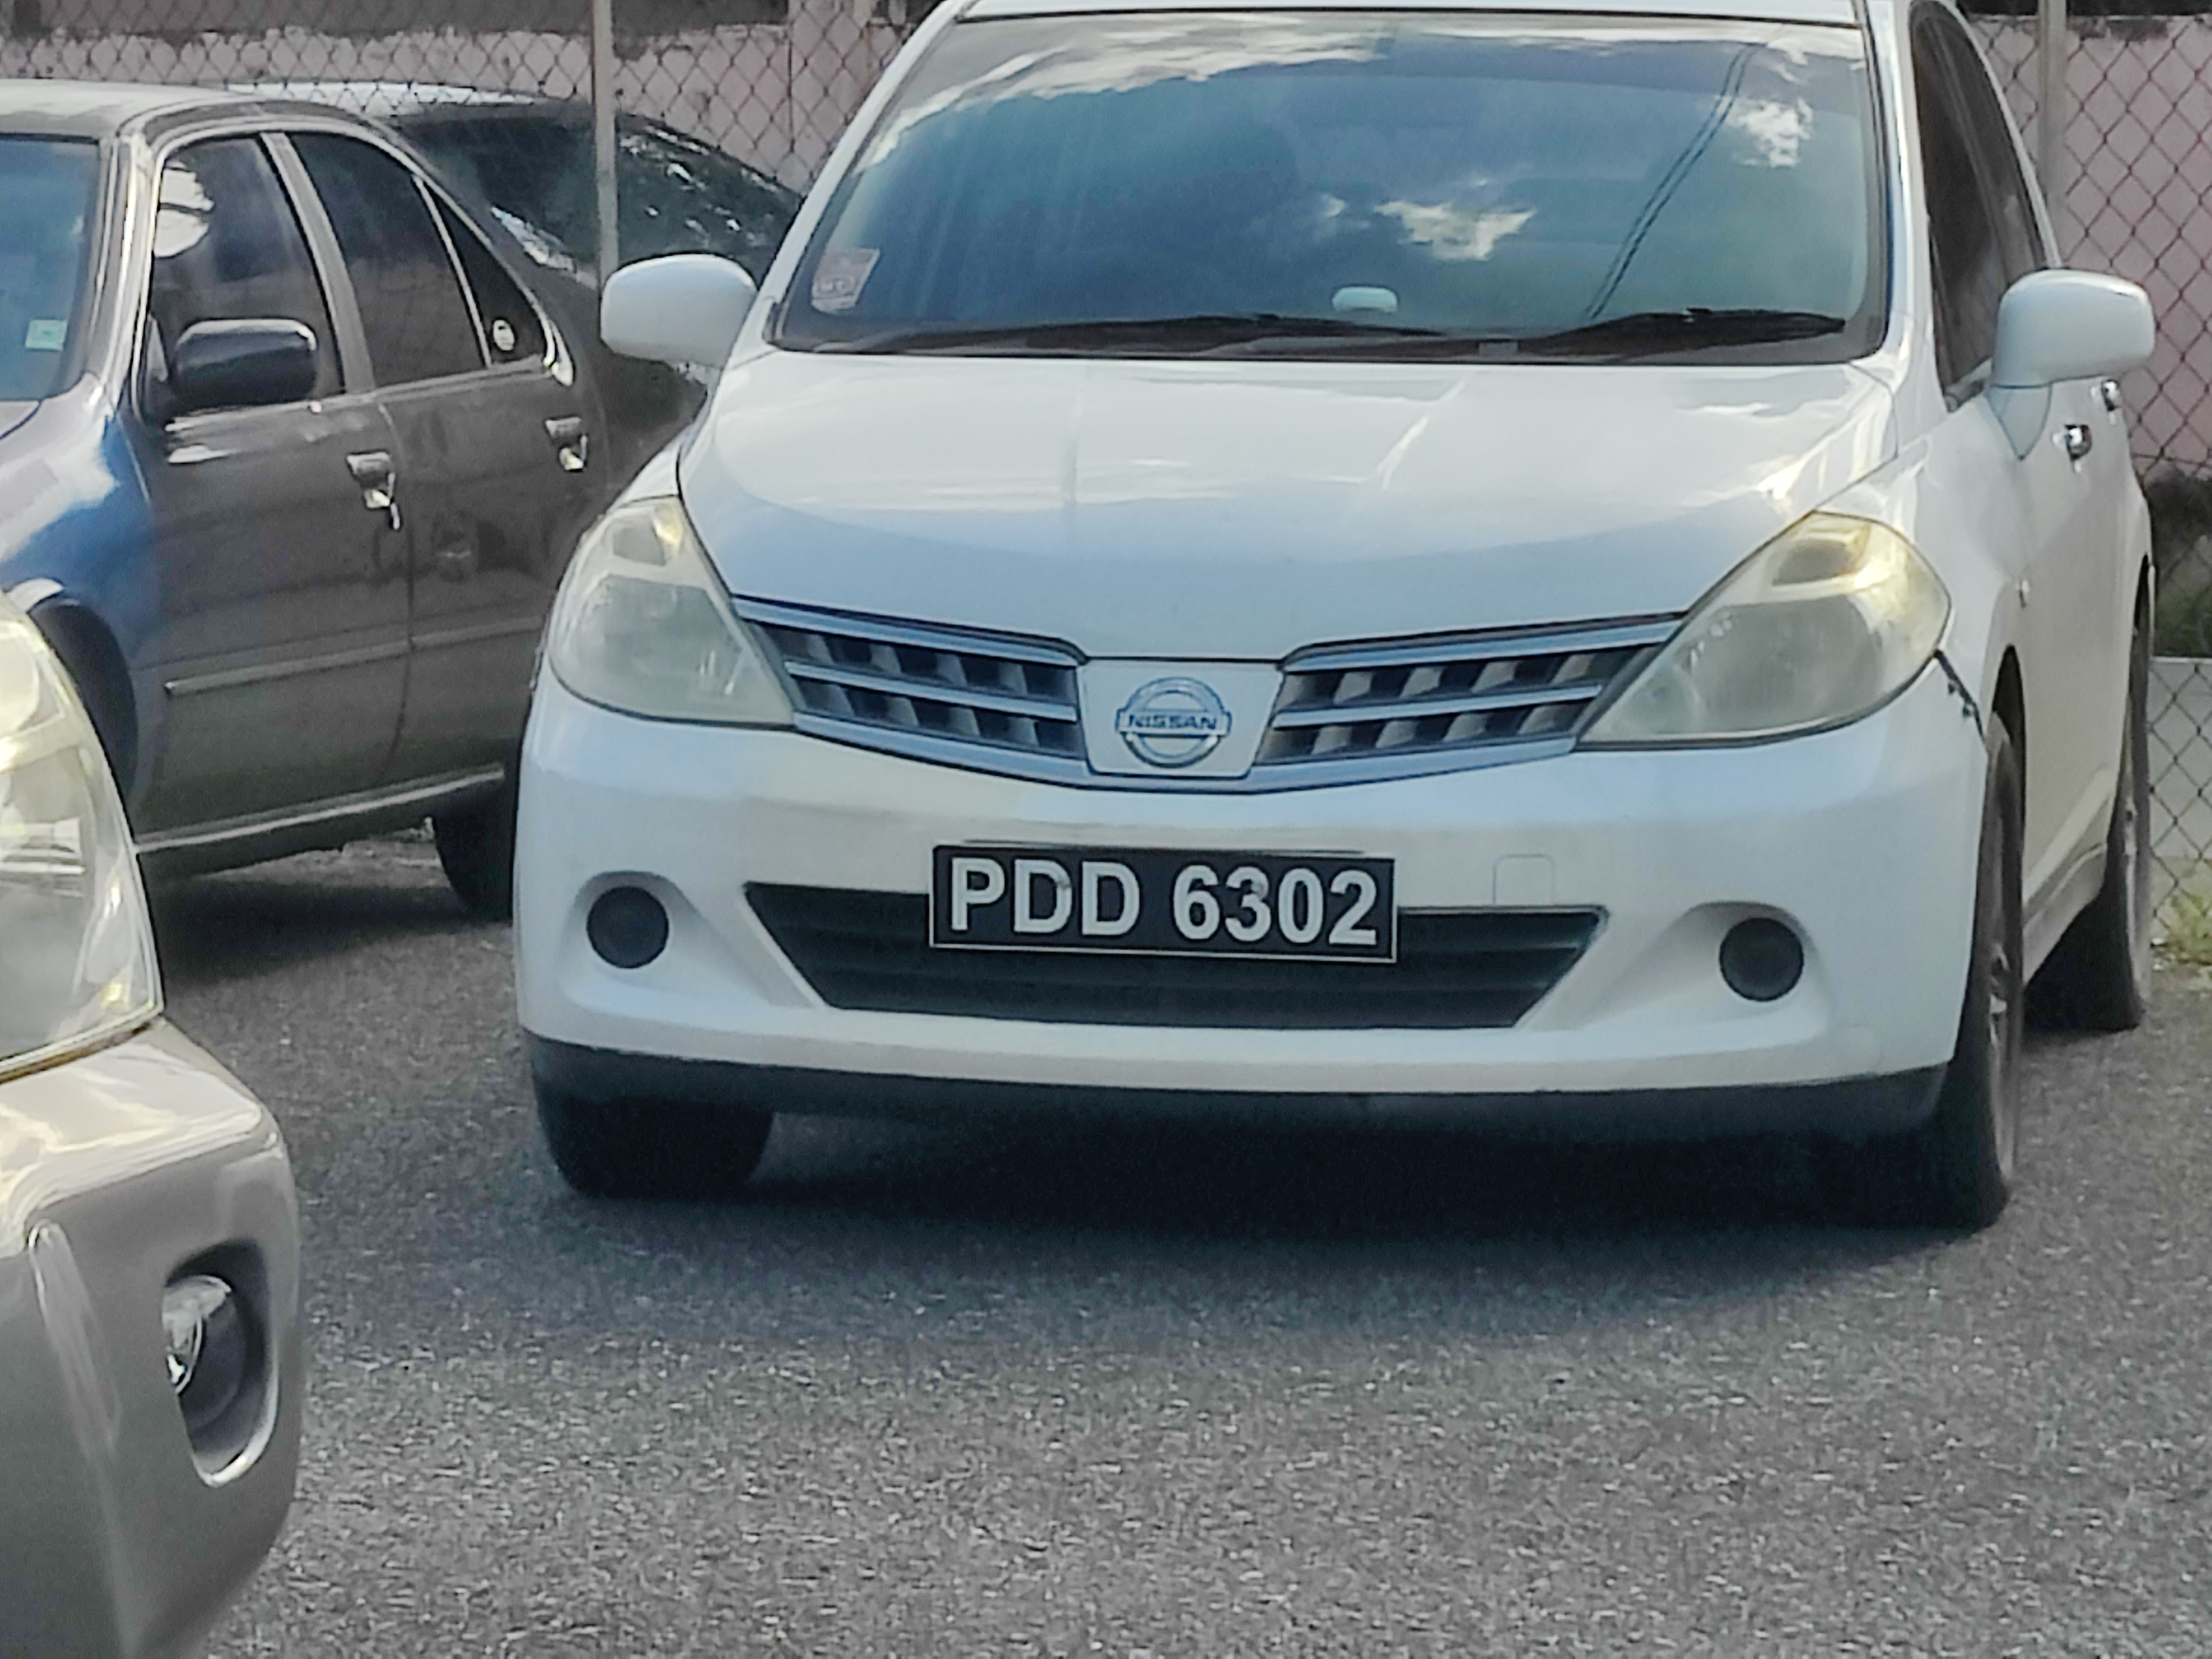License-Plate: (936, 849, 1389, 940)
